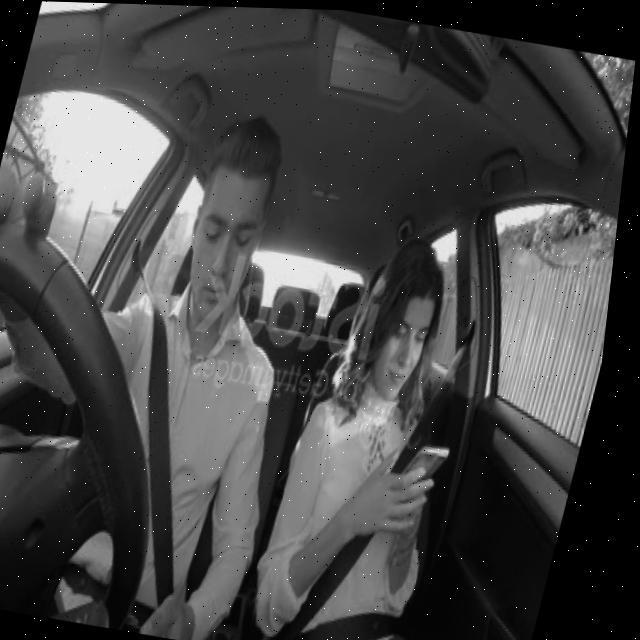PhoneCall: (410, 434, 464, 492)
